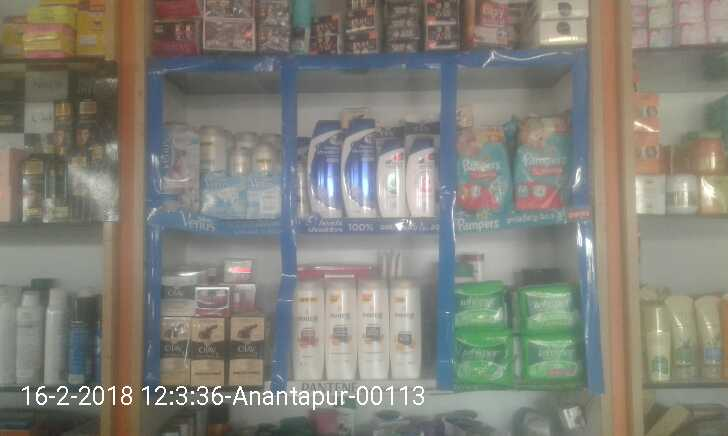venus: (157, 123, 195, 217), (200, 179, 246, 220), (246, 172, 280, 220)
